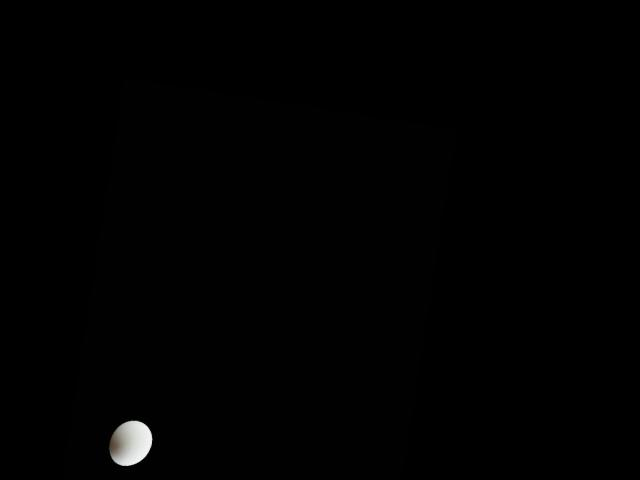egg: (106, 417, 154, 470)
